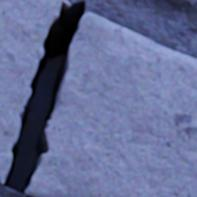brick: (167, 0, 194, 7)
broken_brick: (25, 13, 196, 196), (0, 0, 70, 182)
crack: (0, 1, 85, 195)
